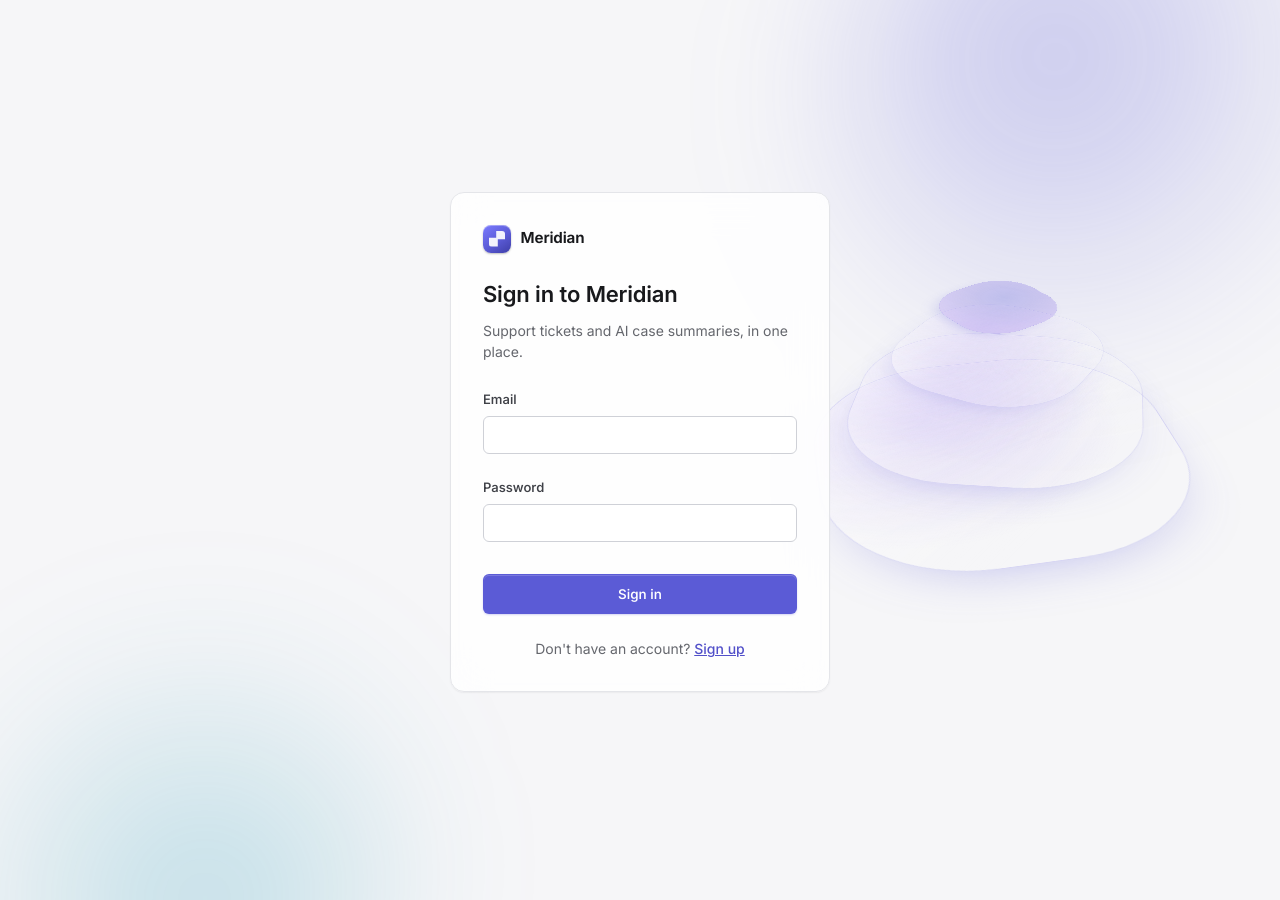
it: LoginPage › shows the server's message on a failed login and stays on the form
Type "asha.kapoor@meridian.local" into the field labelled "Email" at point(640, 435), box [483,416,797,454]
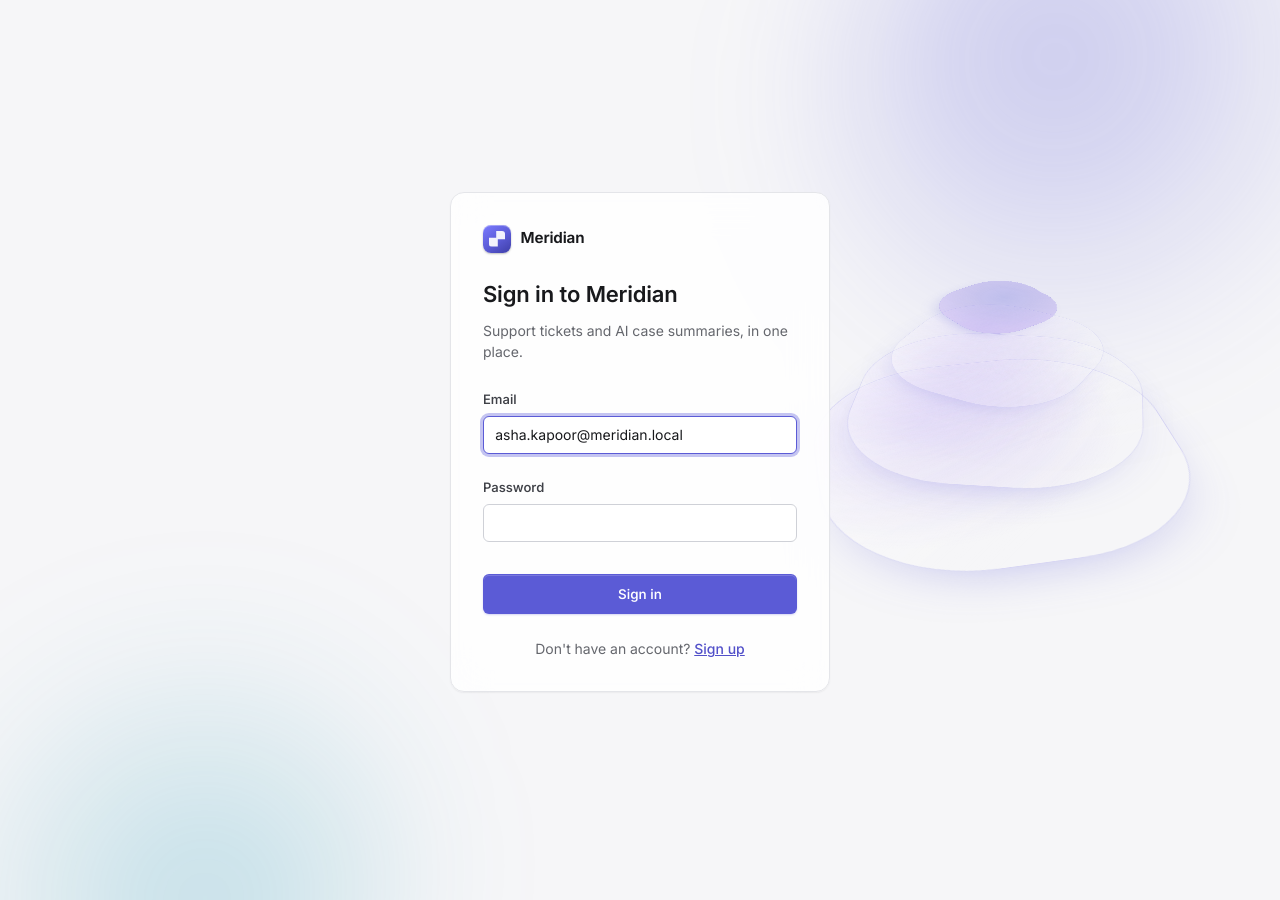
Type "AgentDemo!123" into the password field labelled "Password" at point(640, 523), box [483,504,797,542]
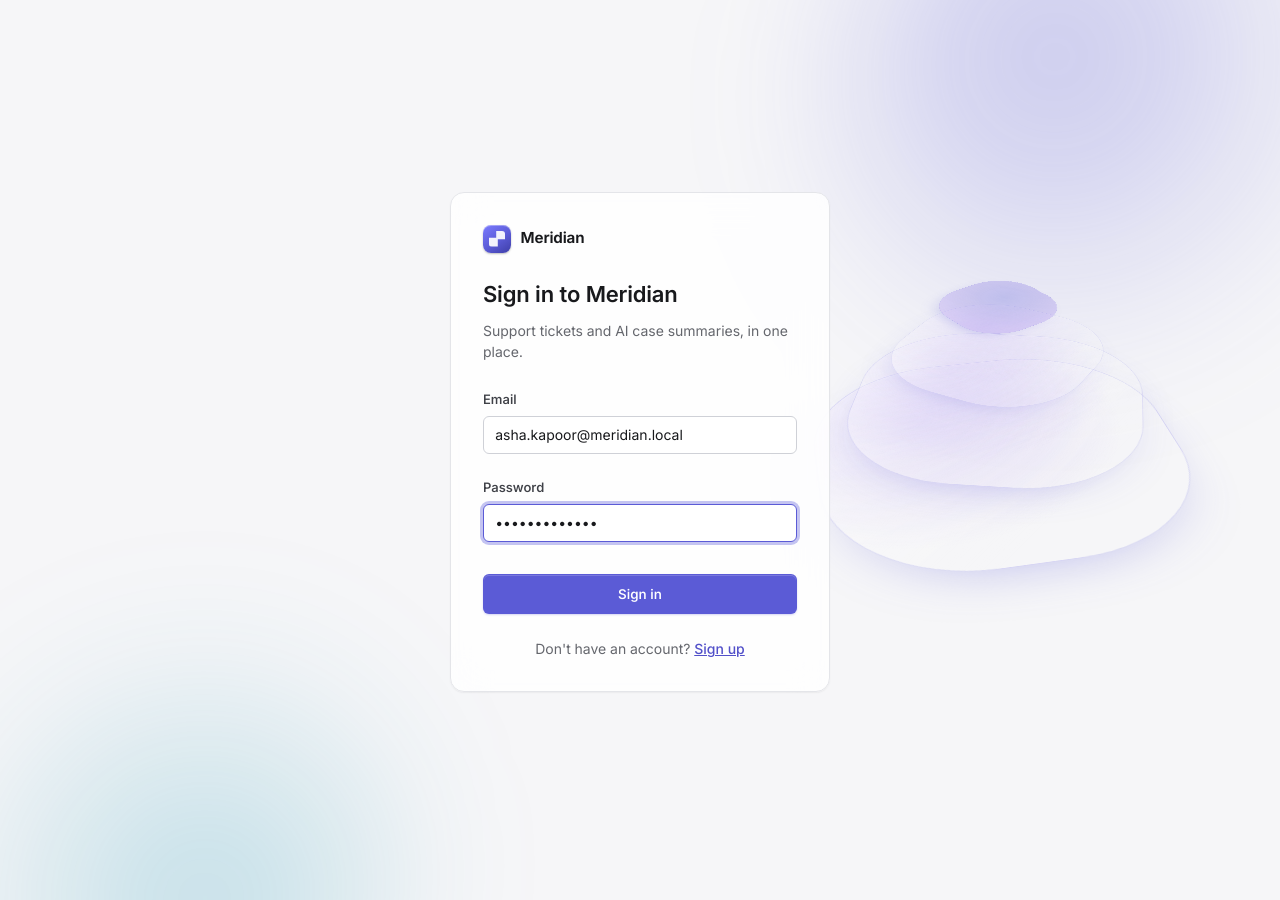
Click the button "Sign in" at point(640, 594), box [483,574,797,614]
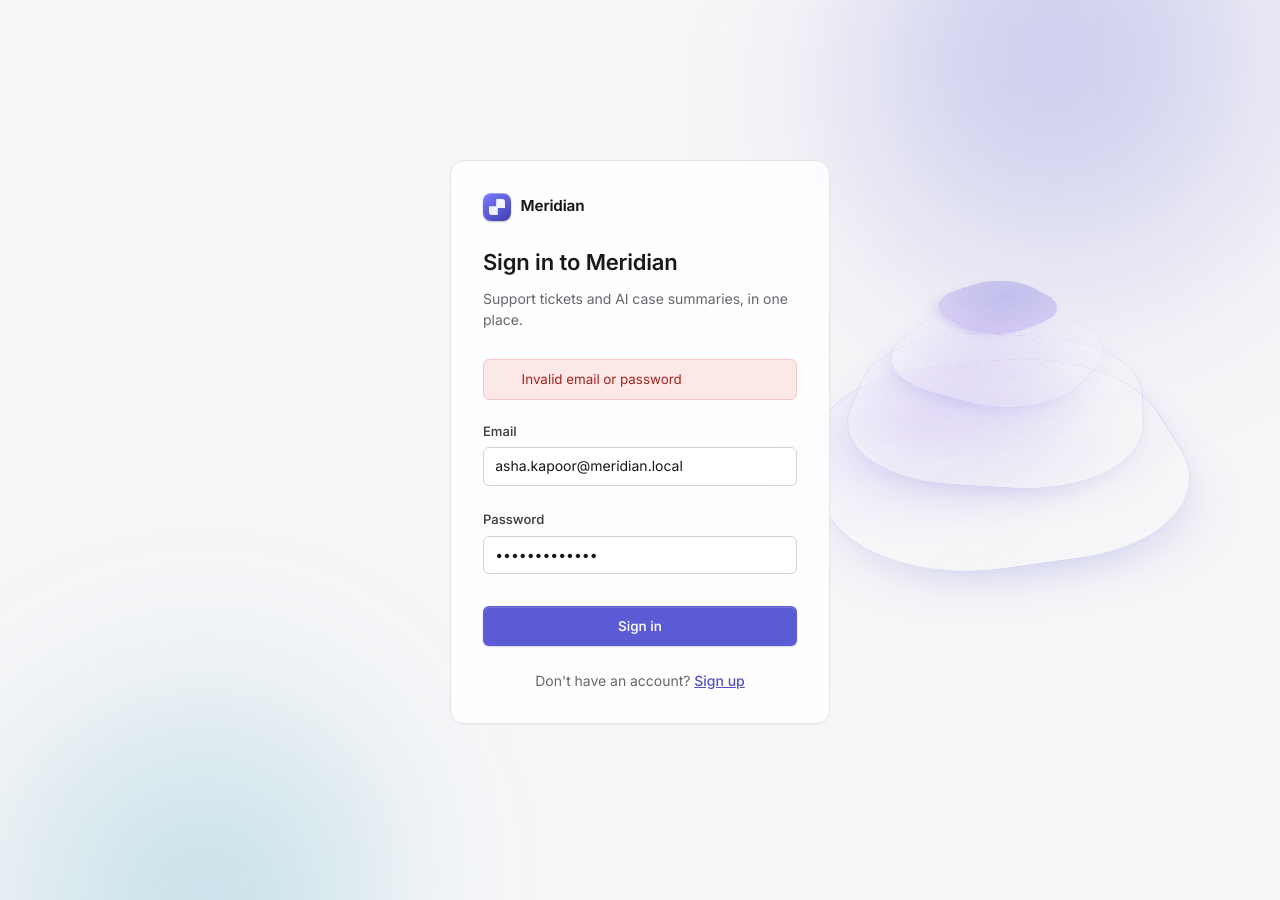
Expected: the button "Sign in" is enabled, [483,606,797,646]
Expected: the message reads "Invalid email or password", [522,371,682,387]
